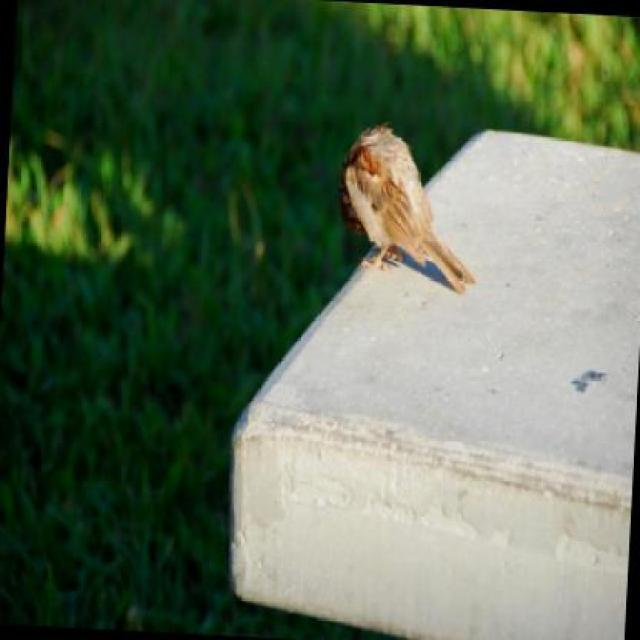Bird: (340, 119, 475, 297)
